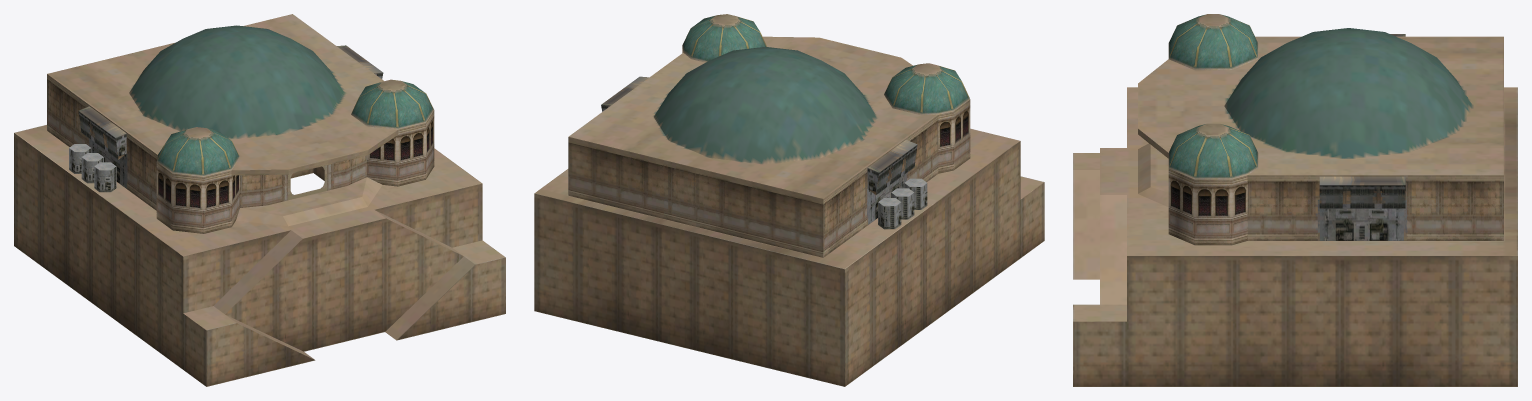
The model's file is ply_nboo_cantina_s01_r0_exterior_mesh_l3.fbx.
3 views of the same model, side by side, from view 1: azimuth 30°, elevation 25°; view 2: azimuth 150°, elevation 25°; view 3: azimuth 270°, elevation 25° (orthographic). The views are drawn at different scales.
Parts seen in each view (by area): view 1: mesh_node; view 2: mesh_node; view 3: mesh_node.
Part boxes in pixels (x1,y1,x2,y2): mesh_node: (14, 14, 505, 386); mesh_node: (534, 14, 1044, 386); mesh_node: (1073, 14, 1517, 386).
Bounding box in the file's own units: 37 × 26.74 × 41.2.
